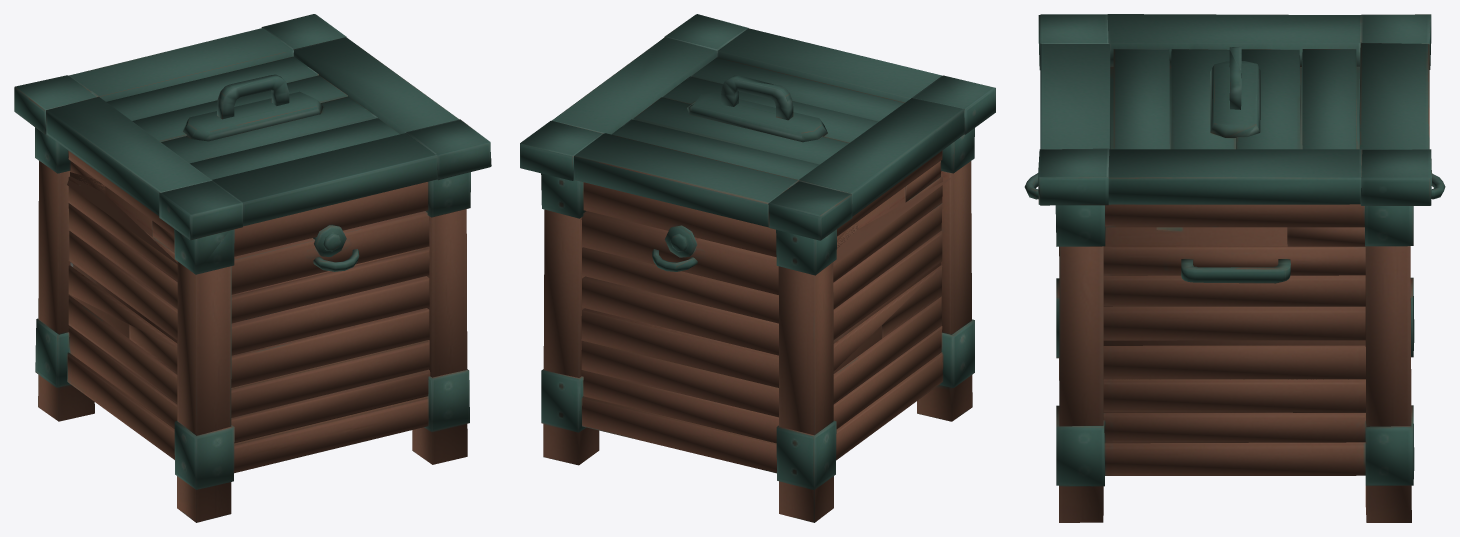
Rendered from organic-compost-bin.glb.
The picture shows the model from 3 angles, left to right: view 1: azimuth 30°, elevation 25°; view 2: azimuth 150°, elevation 25°; view 3: azimuth 270°, elevation 25°; orthographic projection. The views are drawn at different scales.
Visible parts, largest first — view 1: organic-compost-bin; view 2: organic-compost-bin; view 3: organic-compost-bin.
Boxes of the visible parts, bbox=[...] form: organic-compost-bin: bbox=[14, 14, 491, 522]; organic-compost-bin: bbox=[520, 14, 995, 522]; organic-compost-bin: bbox=[1024, 14, 1445, 522].
Bounding box in the file's own units: 0.9043 × 1 × 0.9785.
Materials: 1 (1 with a texture image).
